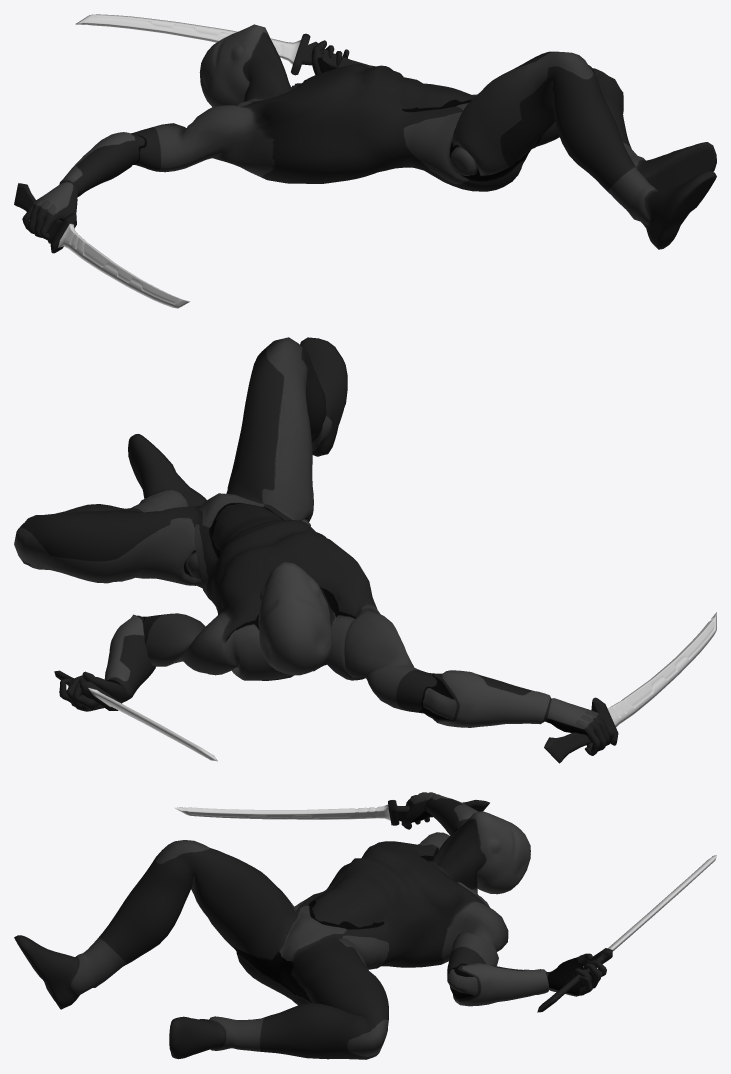
The picture shows the model from 3 angles, top to bottom: view 1: azimuth 30°, elevation 25°; view 2: azimuth 150°, elevation 25°; view 3: azimuth 270°, elevation 25°; orthographic projection. The views are drawn at different scales.
Visible parts, largest first — view 1: Cyborg_Ninja_Killer, Sword_l, Sword_l001; view 2: Cyborg_Ninja_Killer, Sword_l001, Sword_l; view 3: Cyborg_Ninja_Killer, Sword_l001, Sword_l.
Boxes of the visible parts, x1,y1,x2,y2 form: Cyborg_Ninja_Killer: (22,24,716,249); Sword_l: (75,14,375,75); Sword_l001: (14,183,190,308); Cyborg_Ninja_Killer: (14,337,614,755); Sword_l001: (544,612,716,763); Sword_l: (54,670,217,761); Cyborg_Ninja_Killer: (14,792,606,1059); Sword_l001: (174,800,489,825); Sword_l: (537,855,716,1012).
Bounding box in the file's own units: 176 × 54.72 × 198.
Materials: 2 (2 with a texture image).
